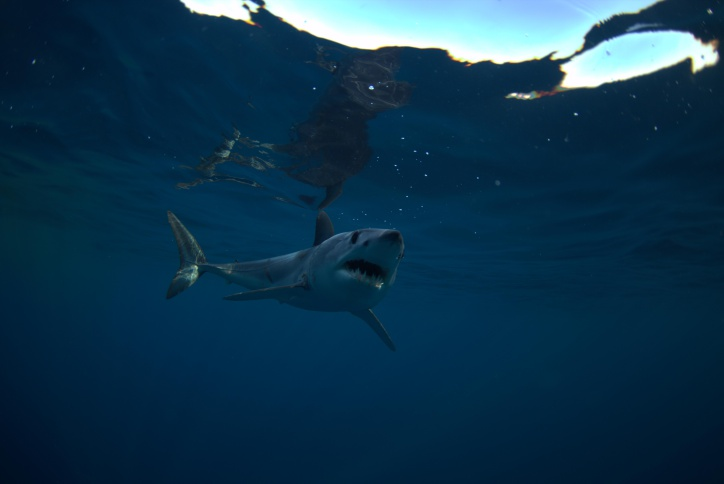Mako: (142, 193, 418, 361)
